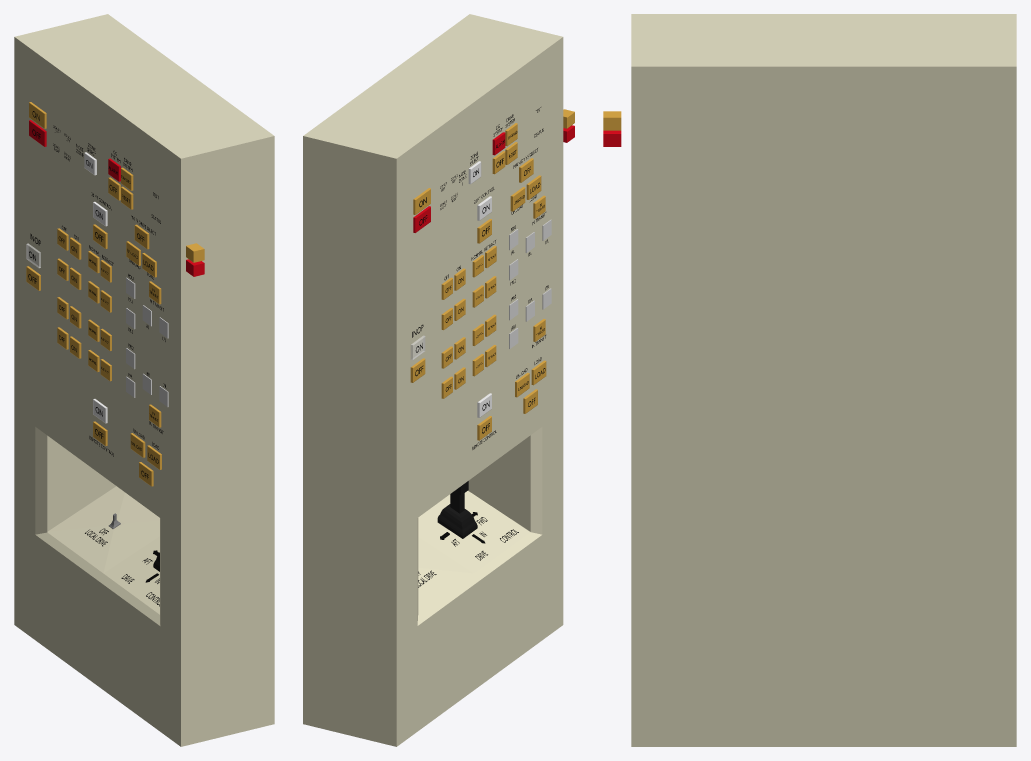
The model's file is MAINPANEL.fbx.
3 renders of one model, left to right at view 1: azimuth 30°, elevation 25°; view 2: azimuth 150°, elevation 25°; view 3: azimuth 270°, elevation 25°, orthographic. The views are drawn at different scales.
Visible parts, largest first — view 1: Cube.016, Cube.015; view 2: Cube.016, Cube.015, Cube.020; view 3: Cube.016, Cube.015.
Part boxes in pixels (x1=…): Cube.016: x1=14, y1=14, x2=274, y2=533; Cube.015: x1=14, y1=398, x2=274, y2=746; Cube.016: x1=303, y1=14, x2=563, y2=526; Cube.015: x1=303, y1=411, x2=563, y2=746; Cube.020: x1=437, y1=481, x2=477, y2=538; Cube.016: x1=631, y1=14, x2=1016, y2=499; Cube.015: x1=631, y1=436, x2=1016, y2=746.
Bounding box in the file's own units: 178 × 1041 × 574.
